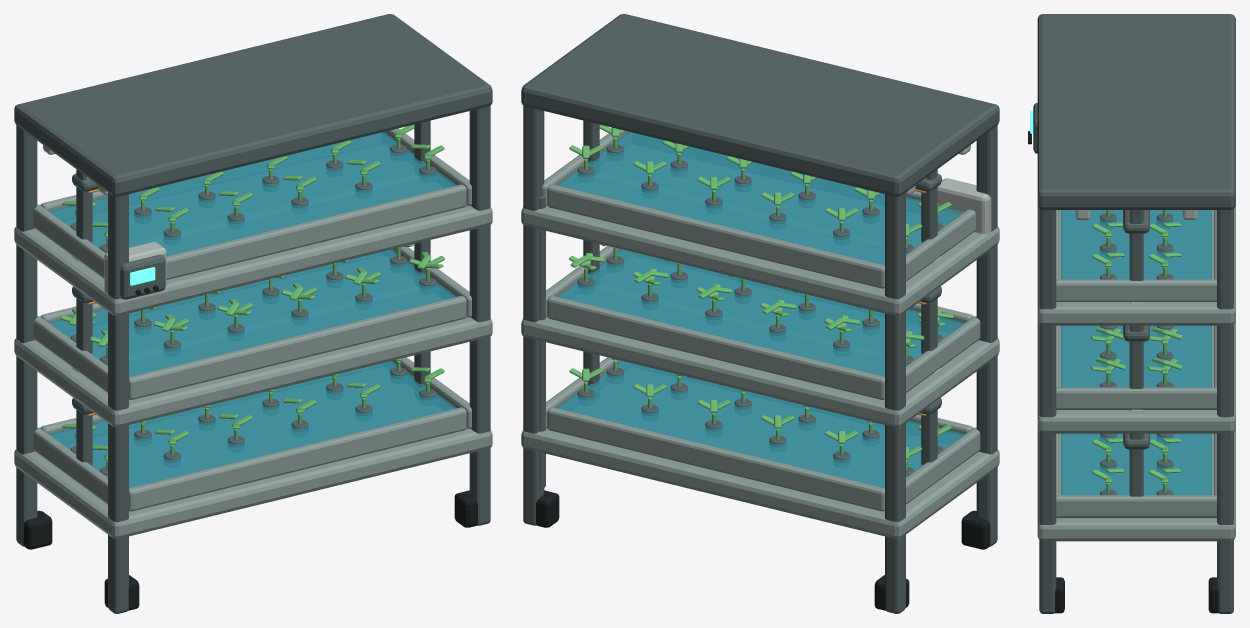
The model's file is Étagère centrale double face.glb.
3 renders of one model, left to right at view 1: azimuth 30°, elevation 25°; view 2: azimuth 150°, elevation 25°; view 3: azimuth 270°, elevation 25°, orthographic. The views are drawn at different scales.
Visible parts, largest first — view 1: 03_double_sided_central_rack_Structural_Roof, 03_double_sided_central_rack_Tray_3_Water_Surface, 03_double_sided_central_rack_Tray_1_Water_Surface, 03_double_sided_central_rack_Tray_2_Water_Surface, 03_double_sided_central_rack_Shelf_1, 03_double_sided_central_rack_Shelf_2, 03_double_sided_central_rack_Shelf_3, 03_double_sided_central_rack_Tray_1_Wall_Front, 03_double_sided_central_rack_Tray_2_Wall_Front, 03_double_sided_central_rack_Post_1_-1, 03_double_sided_central_rack_Post_-1_-1, 03_double_sided_central_rack_Tray_3_Wall_Front (+14 smaller); view 2: 03_double_sided_central_rack_Structural_Roof, 03_double_sided_central_rack_Tray_3_Water_Surface, 03_double_sided_central_rack_Tray_1_Water_Surface, 03_double_sided_central_rack_Tray_2_Water_Surface, 03_double_sided_central_rack_Shelf_1, 03_double_sided_central_rack_Shelf_2, 03_double_sided_central_rack_Shelf_3, 03_double_sided_central_rack_Tray_1_Wall_Rear, 03_double_sided_central_rack_Tray_3_Wall_Rear, 03_double_sided_central_rack_Tray_2_Wall_Rear, 03_double_sided_central_rack_Post_-1_1, 03_double_sided_central_rack_Post_-1_-1 (+14 smaller); view 3: 03_double_sided_central_rack_Structural_Roof, 03_double_sided_central_rack_Tray_3_Water_Surface, 03_double_sided_central_rack_Tray_1_Water_Surface, 03_double_sided_central_rack_Tray_2_Water_Surface, 03_double_sided_central_rack_Post_1_-1, 03_double_sided_central_rack_Post_1_1, 03_double_sided_central_rack_Shelf_3, 03_double_sided_central_rack_Shelf_1, 03_double_sided_central_rack_Shelf_2, 03_double_sided_central_rack_Tray_1_Wall_Right, 03_double_sided_central_rack_Tray_2_Wall_Right, 03_double_sided_central_rack_Tray_3_Wall_Right (+8 smaller).
Part boxes in pixels (<box>): 03_double_sided_central_rack_Structural_Roof: <box>14,14,492,196</box>; 03_double_sided_central_rack_Tray_3_Water_Surface: <box>49,132,456,255</box>; 03_double_sided_central_rack_Tray_1_Water_Surface: <box>49,361,456,488</box>; 03_double_sided_central_rack_Tray_2_Water_Surface: <box>49,249,456,376</box>; 03_double_sided_central_rack_Shelf_1: <box>14,428,492,538</box>; 03_double_sided_central_rack_Shelf_2: <box>14,317,492,427</box>; 03_double_sided_central_rack_Shelf_3: <box>14,205,492,315</box>; 03_double_sided_central_rack_Tray_1_Wall_Front: <box>129,407,466,511</box>; 03_double_sided_central_rack_Tray_2_Wall_Front: <box>129,296,466,399</box>; 03_double_sided_central_rack_Post_1_-1: <box>469,105,490,525</box>; 03_double_sided_central_rack_Post_-1_-1: <box>108,170,128,613</box>; 03_double_sided_central_rack_Tray_3_Wall_Front: <box>166,184,466,279</box>; 03_double_sided_central_rack_Structural_Roof: <box>521,14,999,196</box>; 03_double_sided_central_rack_Tray_3_Water_Surface: <box>557,132,963,265</box>; 03_double_sided_central_rack_Tray_1_Water_Surface: <box>557,361,964,488</box>; 03_double_sided_central_rack_Tray_2_Water_Surface: <box>557,249,964,376</box>; 03_double_sided_central_rack_Shelf_1: <box>521,428,999,538</box>; 03_double_sided_central_rack_Shelf_2: <box>521,317,999,427</box>; 03_double_sided_central_rack_Shelf_3: <box>521,205,999,315</box>; 03_double_sided_central_rack_Tray_1_Wall_Rear: <box>547,407,884,511</box>; 03_double_sided_central_rack_Tray_3_Wall_Rear: <box>547,184,884,288</box>; 03_double_sided_central_rack_Tray_2_Wall_Rear: <box>547,296,884,399</box>; 03_double_sided_central_rack_Post_-1_1: <box>885,170,905,613</box>; 03_double_sided_central_rack_Post_-1_-1: <box>976,125,997,546</box>; 03_double_sided_central_rack_Structural_Roof: <box>1037,14,1235,209</box>; 03_double_sided_central_rack_Tray_3_Water_Surface: <box>1061,210,1211,279</box>; 03_double_sided_central_rack_Tray_1_Water_Surface: <box>1061,433,1211,495</box>; 03_double_sided_central_rack_Tray_2_Water_Surface: <box>1061,325,1211,387</box>; 03_double_sided_central_rack_Post_1_-1: <box>1039,185,1056,613</box>; 03_double_sided_central_rack_Post_1_1: <box>1217,185,1233,613</box>; 03_double_sided_central_rack_Shelf_3: <box>1037,205,1235,325</box>; 03_double_sided_central_rack_Shelf_1: <box>1037,429,1235,541</box>; 03_double_sided_central_rack_Shelf_2: <box>1037,321,1235,433</box>; 03_double_sided_central_rack_Tray_1_Wall_Right: <box>1056,495,1216,517</box>; 03_double_sided_central_rack_Tray_2_Wall_Right: <box>1056,387,1216,409</box>; 03_double_sided_central_rack_Tray_3_Wall_Right: <box>1056,279,1216,301</box>.
Size of the model in its own units: 2.25 by 2.48 by 1.1.
